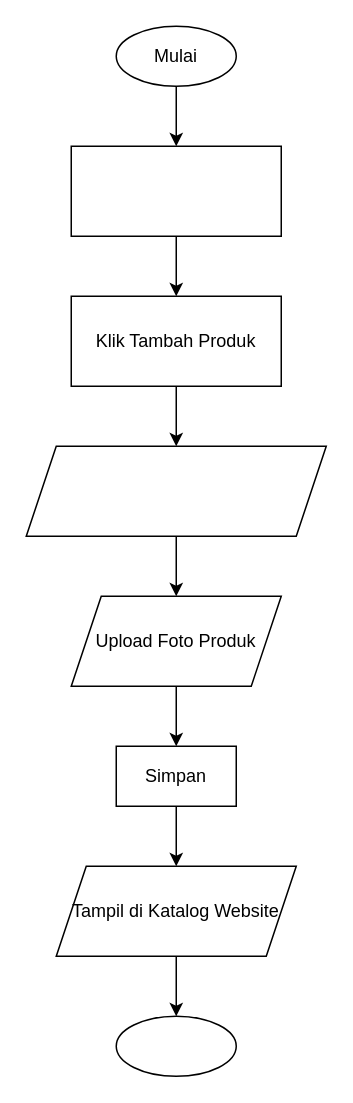
Some shapes in this 353 by 1103 pixel diagram are drawn without their labels. The shapes that lost their labels are listed below. From the top down, each one's centre as x and y in pixels, then its label:
the point at 175,190: Menu Produk
the point at 175,490: Input Nama, Harga, Deskripsi
the point at 175,1045: Selesai
